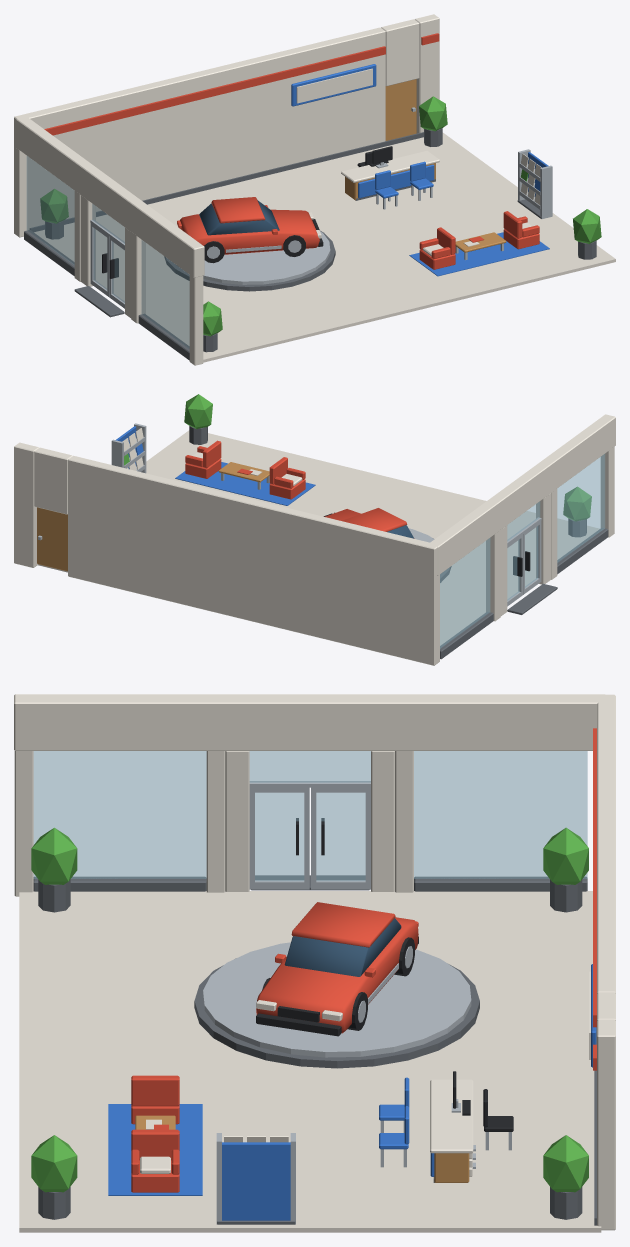
The model's file is car-dealership-showroom.glb.
The picture shows the model from 3 angles, top to bottom: view 1: azimuth 30°, elevation 25°; view 2: azimuth 150°, elevation 25°; view 3: azimuth 270°, elevation 25°; orthographic projection. The views are drawn at different scales.
Visible parts, largest first — view 1: Floor, Wall_Back_A, Header_Left, Window_Left_2, Window_Left_0, Turntable, Accent_Band_Back, Car_Body, Wall_Back_Over, Wall_Back_B, Skirting_Back, Door_Office_Slab (+25 smaller); view 2: Wall_Back_A, Floor, Header_Left, Window_Left_2, Window_Left_0, Wall_Back_B, Wall_Back_Over, Door_Office_Slab, Rug, Column_Left_2, Column_Left_0, DoorJamb_L (+14 smaller); view 3: Floor, Header_Left, Window_Left_2, Window_Left_0, Turntable, Wall_Back_A, Car_Body, Rack_Back, Rug, Door_Right_Glass, Door_Left_Glass, Turntable_Base (+28 smaller).
Boxes of the visible parts, box(x1,y1,x2,y2) form: Floor: box(34, 132, 615, 362); Wall_Back_A: box(14, 27, 385, 237); Header_Left: box(16, 118, 204, 277); Window_Left_2: box(26, 156, 74, 264); Window_Left_0: box(141, 240, 189, 348); Turntable: box(176, 231, 330, 284); Accent_Band_Back: box(44, 46, 385, 135); Car_Body: box(180, 209, 319, 254); Wall_Back_Over: box(381, 19, 419, 86); Wall_Back_B: box(414, 14, 439, 133); Skirting_Back: box(29, 132, 423, 231); Door_Office_Slab: box(385, 79, 416, 140); Wall_Back_A: box(68, 455, 439, 665); Floor: box(38, 430, 599, 645); Header_Left: box(430, 414, 615, 575); Window_Left_2: box(440, 538, 490, 648); Window_Left_0: box(557, 454, 604, 562); Wall_Back_B: box(14, 442, 38, 567); Wall_Back_Over: box(34, 447, 72, 514); Door_Office_Slab: box(37, 507, 67, 571); Rug: box(175, 462, 315, 505); Column_Left_2: box(486, 530, 500, 621); Column_Left_0: box(600, 447, 614, 537); DoorJamb_L: box(536, 493, 550, 584); Floor: box(19, 891, 601, 1232); Header_Left: box(14, 694, 604, 750); Window_Left_2: box(414, 751, 587, 878); Window_Left_0: box(33, 751, 206, 878); Turntable: box(203, 942, 471, 1057); Wall_Back_A: box(597, 694, 615, 993); Car_Body: box(256, 917, 418, 1033); Rack_Back: box(222, 1142, 290, 1220); Rug: box(108, 1104, 202, 1195); Door_Right_Glass: box(316, 792, 365, 880); Door_Left_Glass: box(255, 792, 304, 880); Turntable_Base: box(194, 958, 479, 1068).
Size of the model in its own units: 62.2 by 16 by 44.7.
